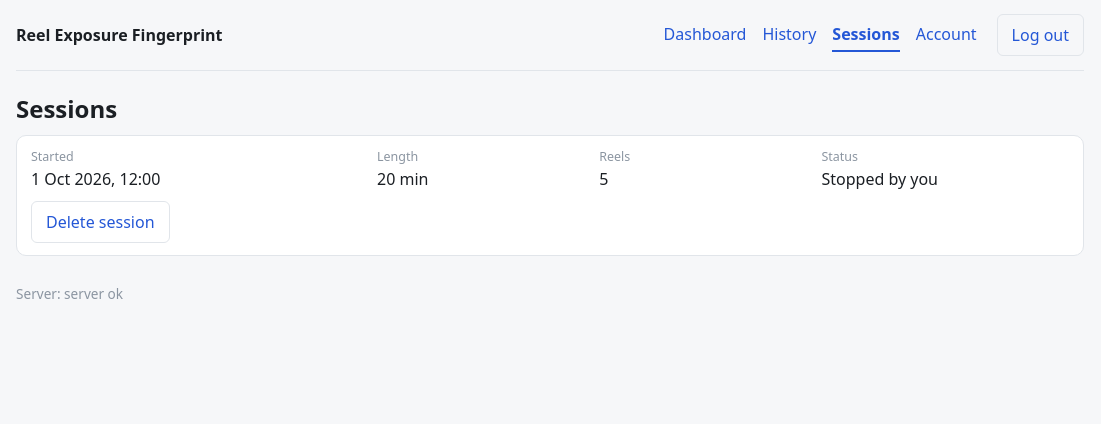
Test: deleting data › shows an unfinished deletion as unfinished, with what is left
Click the button with aria-label "Delete the session of" at (100, 222), box [31, 201, 170, 243]
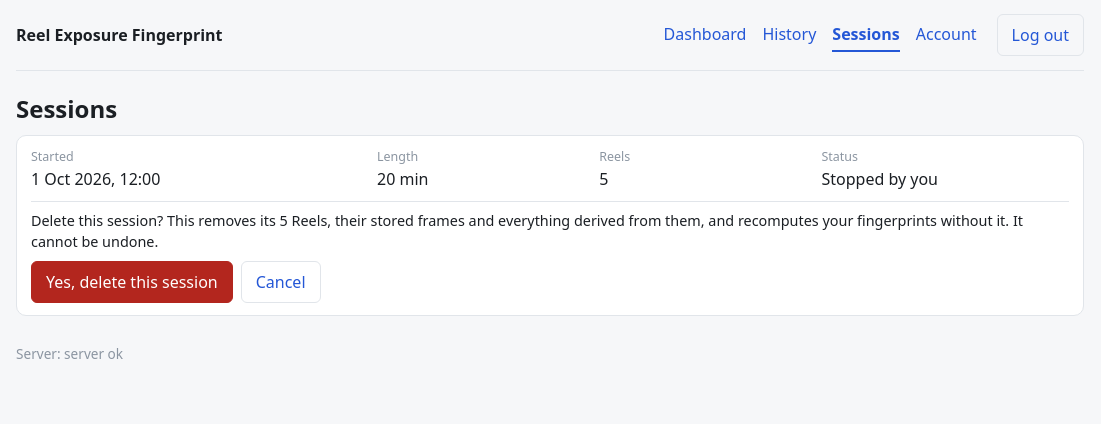
Click the button "Yes, delete this session" at (132, 282), box [31, 261, 233, 303]
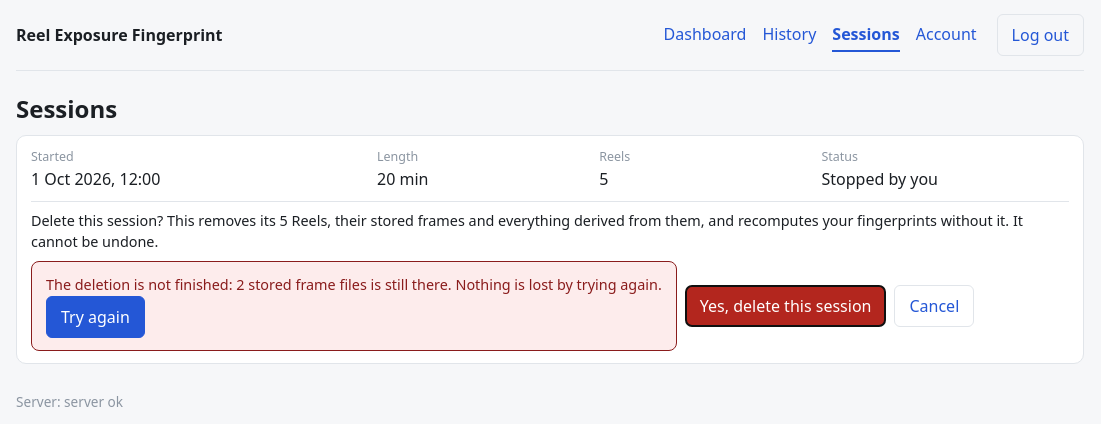
Expected: the number of list items is 1, [16, 135, 1084, 364]
Result: the message shows "not finished: 2 stored frame files is still there" at [46, 275, 662, 294]
